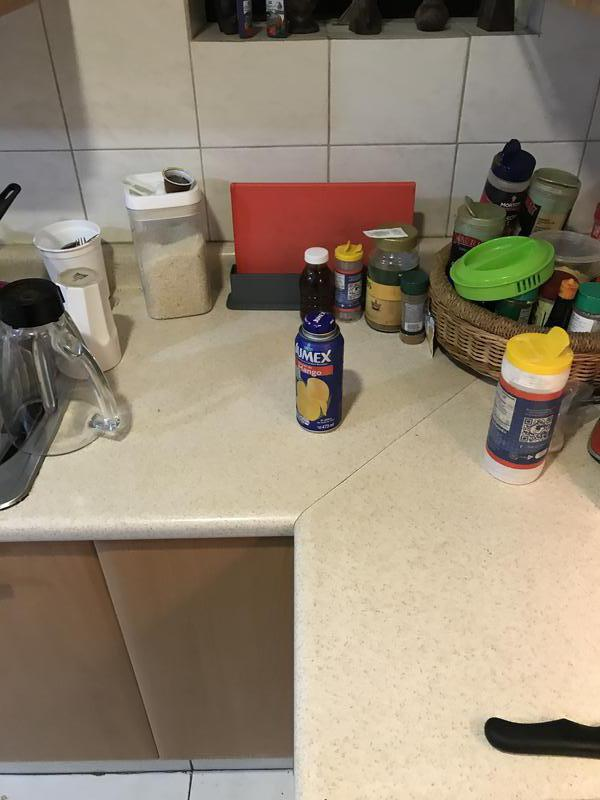jugo_jumex: (292, 312, 344, 434)
